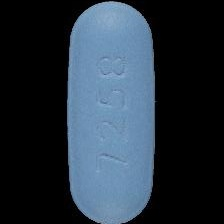53808-0635: (0, 0, 224, 224)
